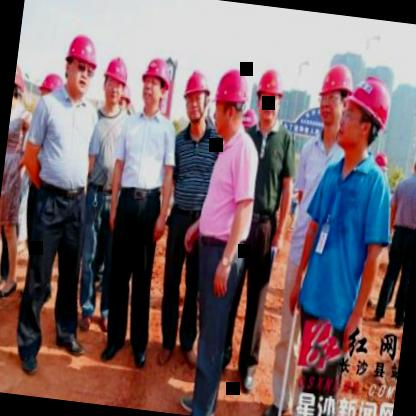helmet: (336, 70, 395, 162), (207, 61, 252, 140), (312, 58, 356, 136), (58, 29, 103, 101), (250, 63, 288, 132), (178, 64, 214, 130), (136, 50, 170, 113), (98, 52, 131, 110), (36, 66, 68, 110), (10, 56, 31, 113), (409, 143, 416, 181)
